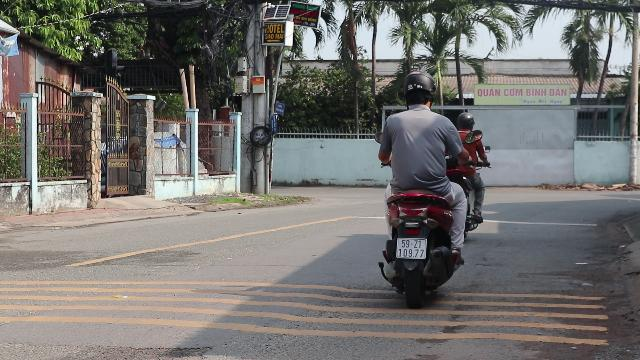helmet: (400, 70, 436, 110)
licenseplate: (396, 238, 426, 258)
motorcyclist: (372, 69, 480, 304)
